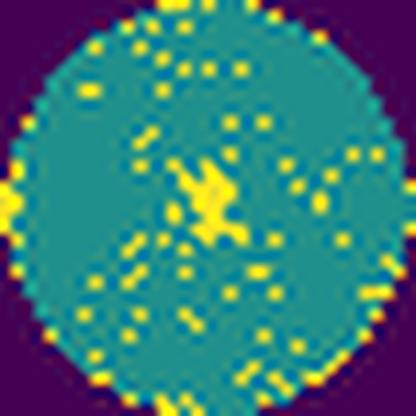Center: (166, 158, 249, 255)
